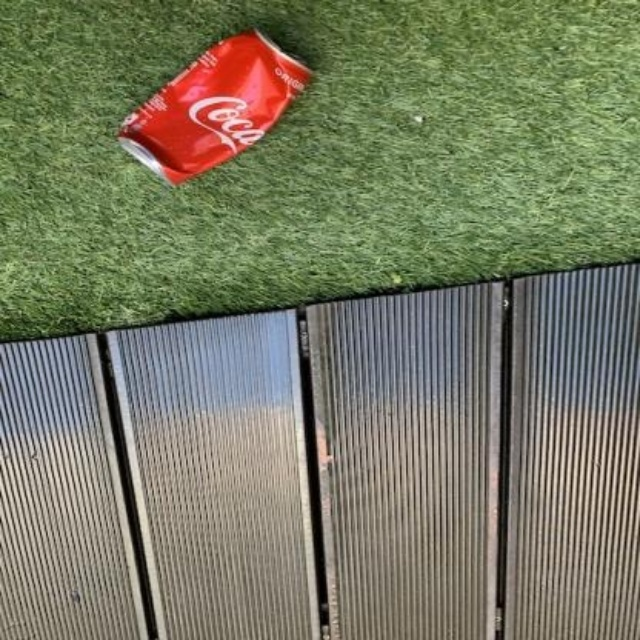trash: (118, 29, 309, 183)
